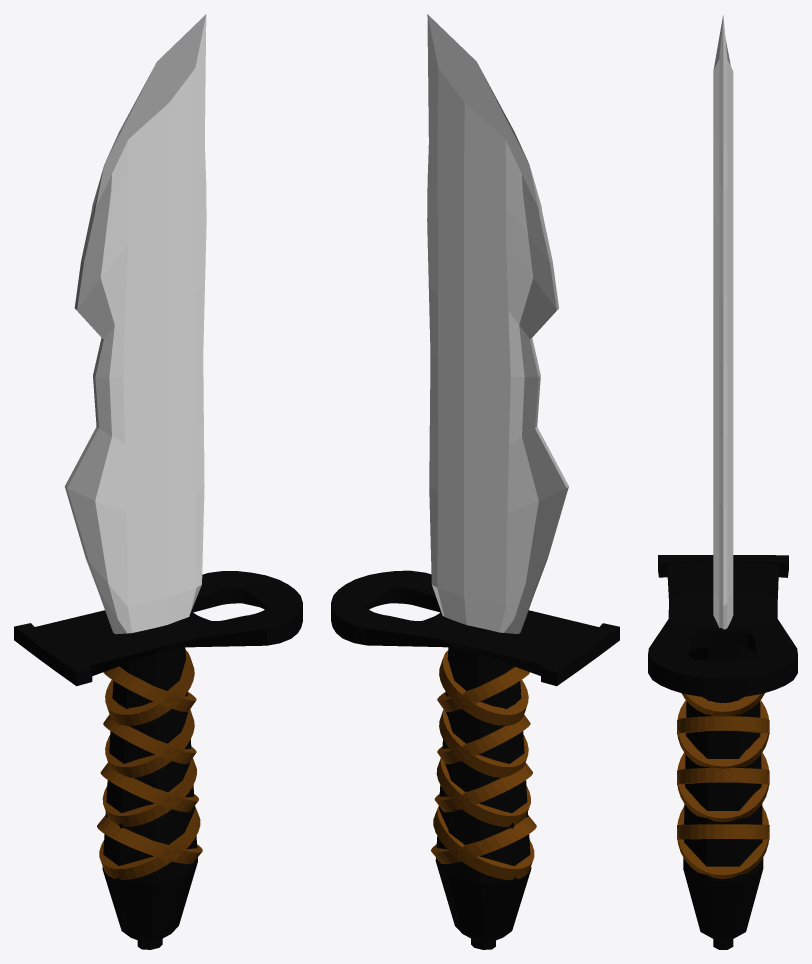
File: shortsword.fbx
3 views of the same model, side by side, from view 1: azimuth 30°, elevation 25°; view 2: azimuth 150°, elevation 25°; view 3: azimuth 270°, elevation 25° (orthographic). The views are drawn at different scales.
Visible parts, largest first — view 1: Circle.001; view 2: Circle.001; view 3: Circle.001.
Part boxes in pixels (bbox=[...]): Circle.001: bbox=[14, 14, 302, 949]; Circle.001: bbox=[331, 14, 619, 949]; Circle.001: bbox=[648, 15, 797, 949].
Bounding box in the file's own units: 175 × 620 × 87.84.
